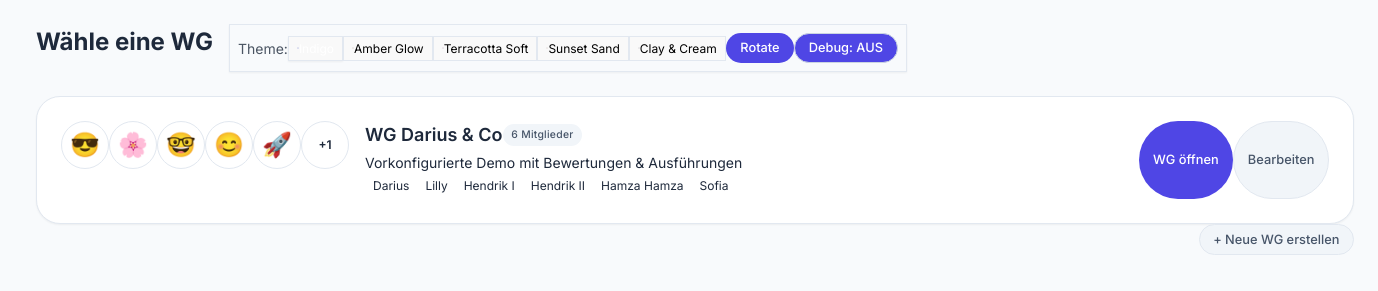
Scenario: Profile Overview & Navigation Flow (WG zentriert) › startet WG Creation Wizard via Neue WG erstellen
Click the button with test id "create-wg-btn".
click(1276, 240)  # box [1198,224,1354,255]
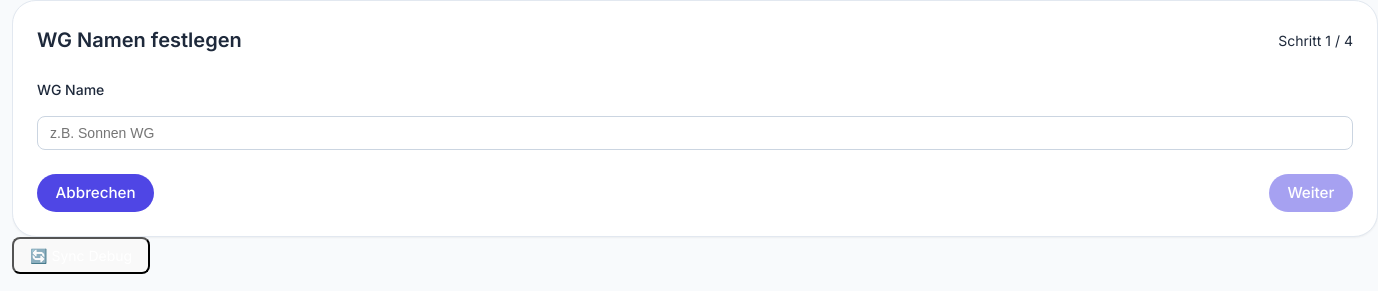
Now the heading "WG Namen festlegen" is shown, box [37,25,242,55]
